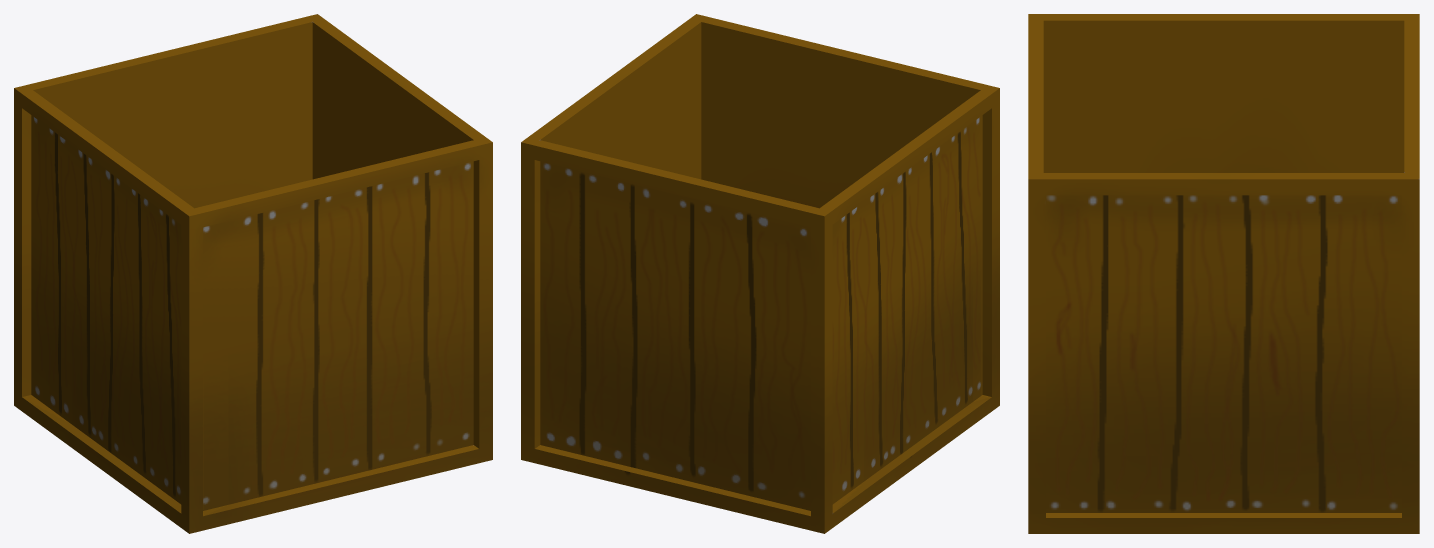
The model's file is Crate-1.glb.
3 views of the same model, side by side, from view 1: azimuth 30°, elevation 25°; view 2: azimuth 150°, elevation 25°; view 3: azimuth 270°, elevation 25° (orthographic). The views are drawn at different scales.
Visible parts, largest first — view 1: Crate-1; view 2: Crate-1; view 3: Crate-1.
Part boxes in pixels (x1,y1,x2,y2): Crate-1: (14,14,492,533); Crate-1: (521,14,999,533); Crate-1: (1028,14,1419,533).
Bounding box in the file's own units: 2 × 2 × 2.
1 material, 1 textured.
